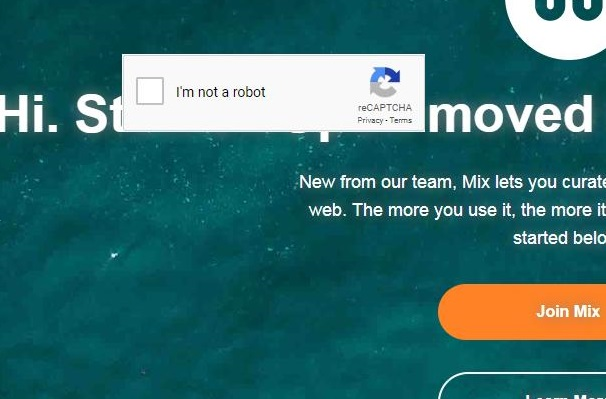captcha: (137, 77, 269, 105)
